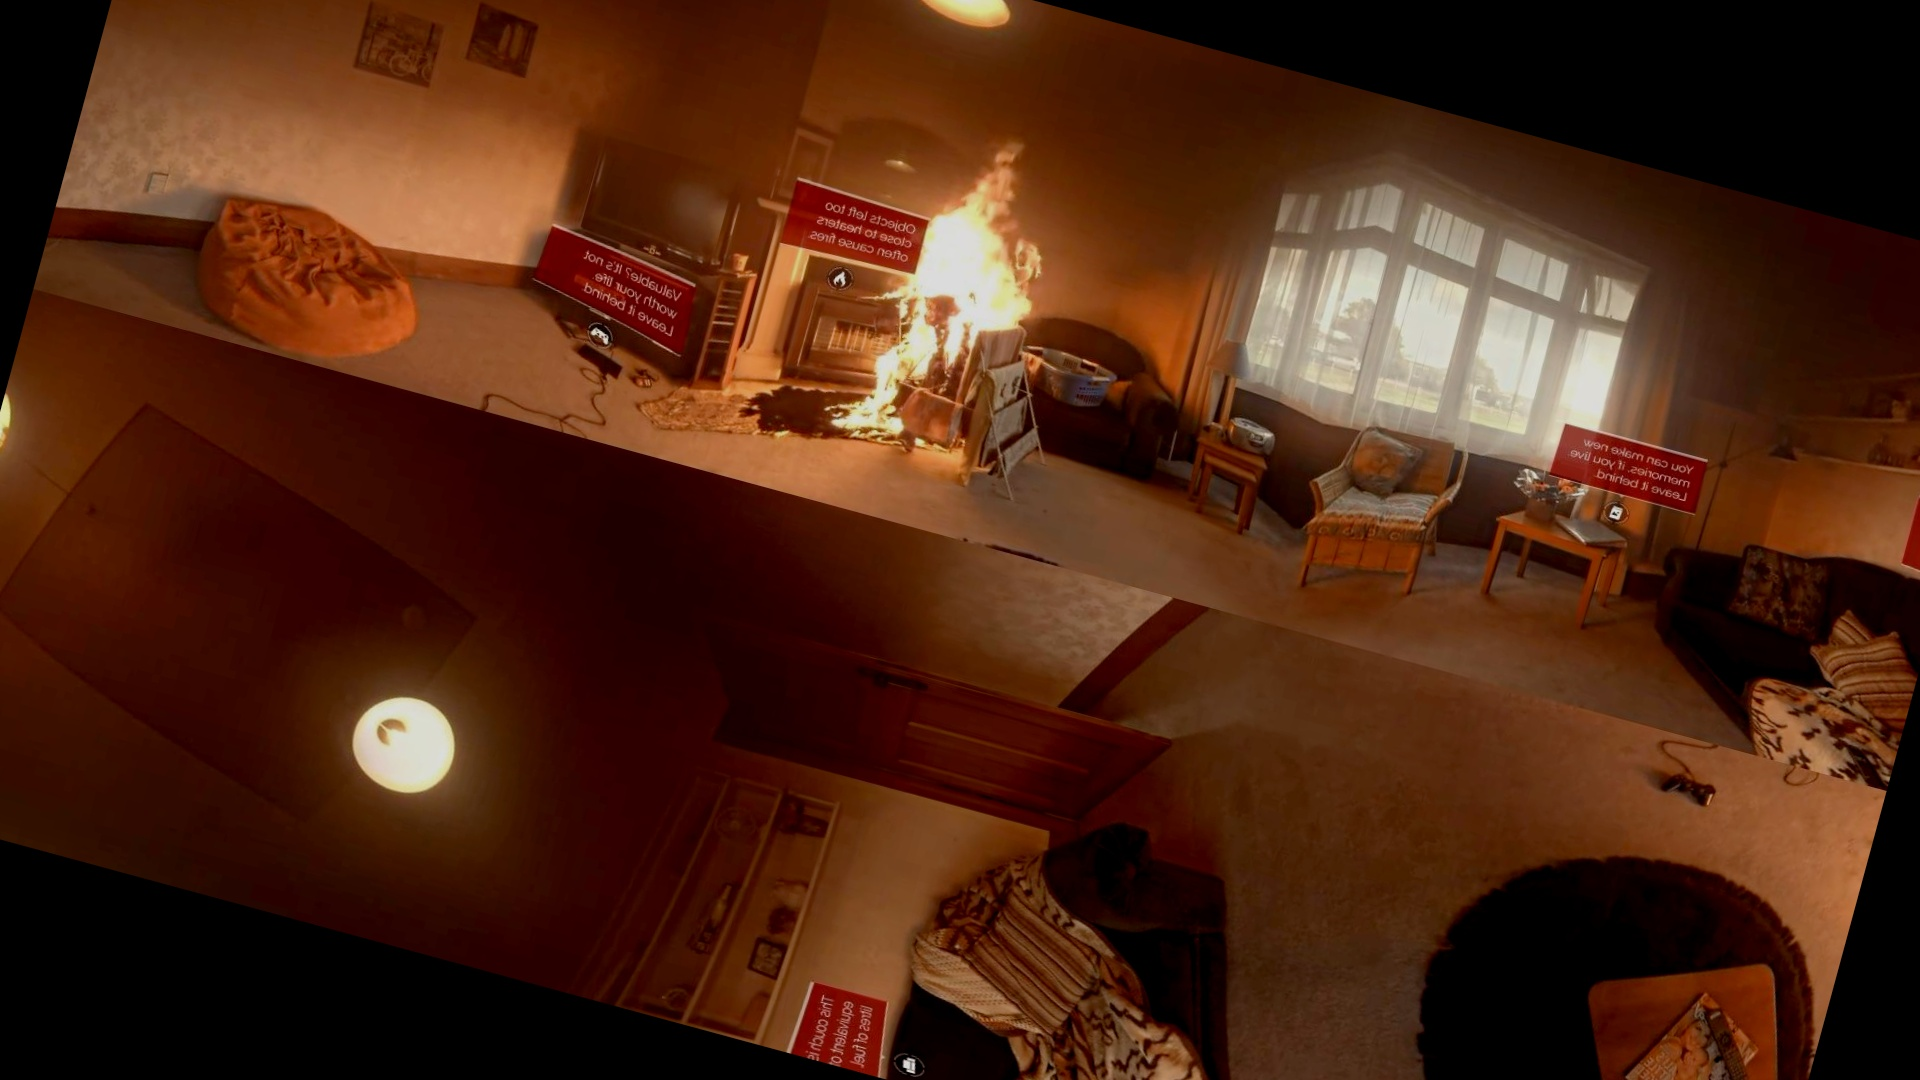fire: (816, 92, 1091, 455)
